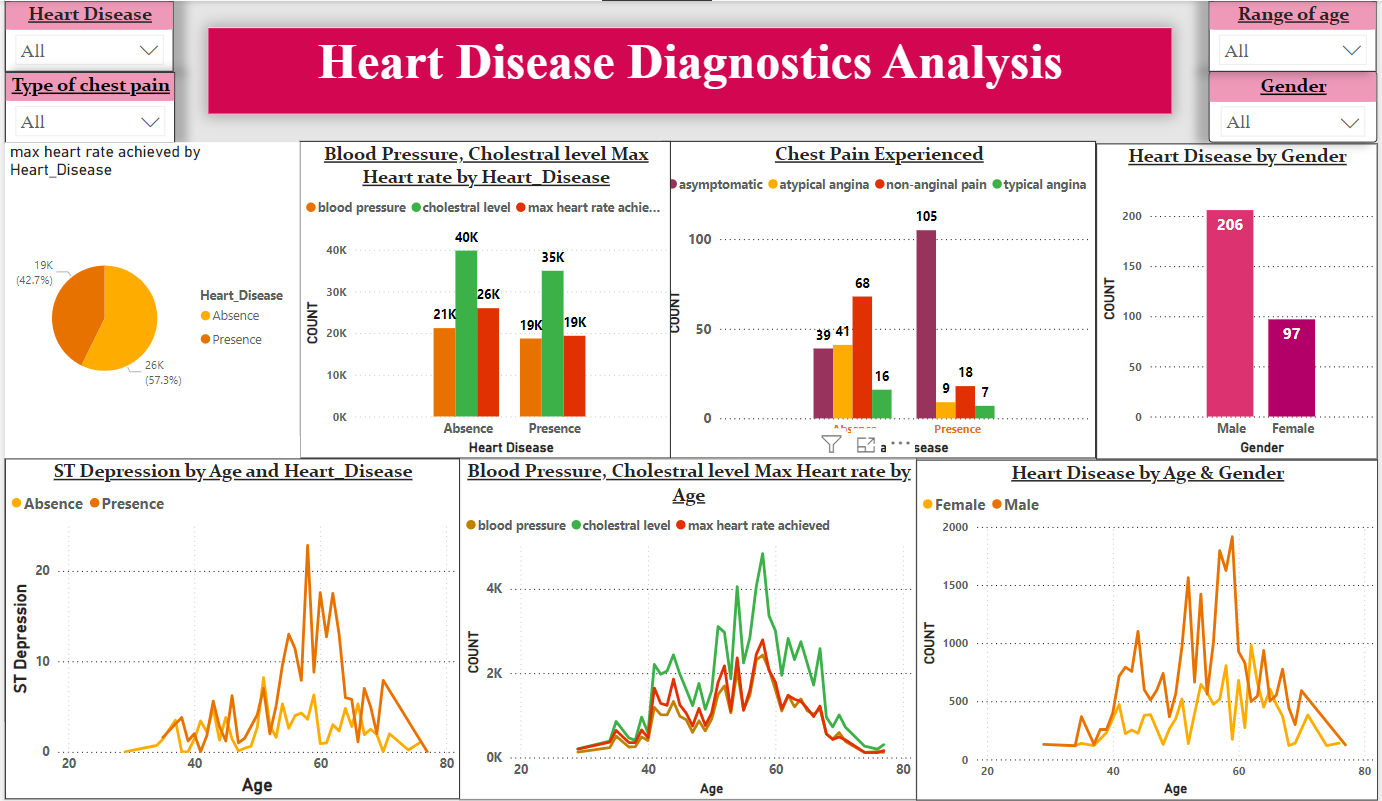

Layout of this report page (visuals, bound fields, positions):
{"tool":"powerbi","page":{"name":"Page 1","canvas":[1460,860],"ordinal":0},"visuals":[{"type":"lineChart","title":"Age Distribution","fields":{"Category":["my_data.age"],"Series":["my_data.sex1"],"Y":["Sum(my_data.blood pressure)"]},"box":[968.8,488.1,491,362],"z":0},{"type":"columnChart","title":"Heart Disease by Gender","fields":{"Category":["my_data.sex1"],"Y":["CountNonNull(my_data.max heart rate achieved)"]},"box":[1159.4,150.4,300.8,336.8],"z":1000},{"type":"clusteredColumnChart","title":"Chest Pain Experienced","fields":{"Y":["CountNonNull(my_data.cp)"],"Series":["my_data.Chest_pain_type"],"Category":["my_data.Heart_Disease"]},"box":[697.5,149.1,461.9,338.1],"z":2000},{"type":"lineChart","title":"ST Depression by Age and Heart_Disease","fields":{"Category":["my_data.age"],"Series":["my_data.Heart_Disease"],"Y":["Sum(my_data.oldpeak)"]},"box":[0,486.6,483.7,362],"z":3000},{"type":"clusteredColumnChart","title":"Blood Pressure, Cholestral level  Max Heart rate  by Heart_Disease","fields":{"Category":["my_data.Heart_Disease"],"Y":["Sum(my_data.blood pressure)","Sum(my_data.cholestral level)","Sum(my_data.max heart rate achieved)"]},"box":[314.2,151.8,383.4,336.8],"z":4000},{"type":"textbox","box":[215,28,1026,93],"z":5000},{"type":"slicer","title":"Gender","fields":{"Values":["my_data.sex1"]},"box":[1281,74.7,178.8,76.2],"z":6000},{"type":"slicer","title":"Range of age","fields":{"Values":["my_data.Age_Category"]},"box":[1281.1,0,178.7,74.9],"z":7000},{"type":"slicer","title":"Heart Disease","fields":{"Values":["my_data.Heart_Disease"]},"box":[0,0,179.4,75.4],"z":8000},{"type":"slicer","title":"Type of chest pain","fields":{"Values":["my_data.Chest_pain_type"]},"box":[0,75.4,180.9,75.4],"z":9000},{"type":"lineChart","title":"Blood Pressure, Cholestral level  Max Heart rate  by Age","fields":{"Category":["my_data.age"],"Y":["Sum(my_data.blood pressure)","Sum(my_data.cholestral level)","Sum(my_data.max heart rate achieved)"]},"box":[484,486.9,485.5,363],"z":10000},{"type":"pieChart","title":"Heart_Disease","fields":{"Category":["my_data.Heart_Disease"],"Y":["CountNonNull(my_data.max heart rate achieved)"]},"box":[0,153.1,314.2,334.1],"z":11000}]}

Visuals, with their boxes in screenshot pixels (x1, y1, x2, y2), scaled from the page's 1460x860 canvas onto the 1382x801 screenshot:
"Age Distribution" lineChart: select_region(917, 455, 1381, 792)
"Heart Disease by Gender" columnChart: select_region(1097, 140, 1381, 454)
"Chest Pain Experienced" clusteredColumnChart: select_region(660, 139, 1097, 454)
"ST Depression by Age and Heart_Disease" lineChart: select_region(0, 453, 458, 790)
"Blood Pressure, Cholestral level  Max Heart rate  by Heart_Disease" clusteredColumnChart: select_region(297, 141, 660, 455)
textbox: select_region(204, 26, 1175, 113)
"Gender" slicer: select_region(1213, 70, 1381, 141)
"Range of age" slicer: select_region(1213, 0, 1381, 70)
"Heart Disease" slicer: select_region(0, 0, 170, 70)
"Type of chest pain" slicer: select_region(0, 70, 171, 140)
"Blood Pressure, Cholestral level  Max Heart rate  by Age" lineChart: select_region(458, 453, 918, 792)
"Heart_Disease" pieChart: select_region(0, 143, 297, 454)
